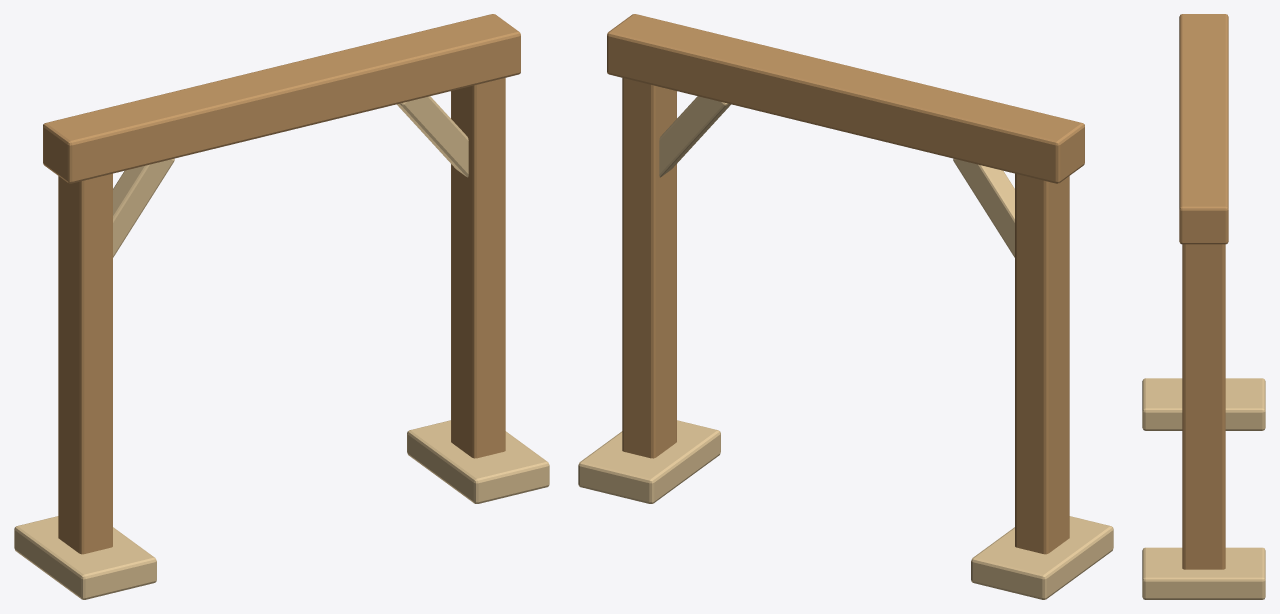
The model's file is S012_timber_portal.glb.
3 renders of one model, left to right at view 1: azimuth 30°, elevation 25°; view 2: azimuth 150°, elevation 25°; view 3: azimuth 270°, elevation 25°, orthographic. The views are drawn at different scales.
Parts seen in each view (by area): view 1: overhead_beam, timber_upright, timber_upright.001, timber_foot, timber_foot.001, angled_brace, angled_brace.001; view 2: overhead_beam, timber_upright, timber_upright.001, timber_foot, timber_foot.001, angled_brace, angled_brace.001; view 3: timber_upright.001, overhead_beam, timber_foot.001, timber_foot.
Part boxes in pixels (x1,y1,x2,y2): overhead_beam: (43,14,520,183); timber_upright: (58,173,112,554); timber_upright.001: (451,78,505,458); timber_foot: (14,516,156,599); timber_foot.001: (407,420,549,503); angled_brace: (113,159,174,257); angled_brace.001: (397,96,468,177); overhead_beam: (607,14,1084,183); timber_upright: (1015,173,1069,554); timber_upright.001: (622,78,676,458); timber_foot: (971,516,1113,599); timber_foot.001: (578,420,720,503); angled_brace: (953,159,1014,257); angled_brace.001: (659,96,730,177); timber_upright.001: (1182,244,1225,569); overhead_beam: (1179,14,1228,244); timber_foot.001: (1142,547,1265,599); timber_foot: (1142,378,1265,430).
Size of the model in its own units: 3.1 by 2.8 by 0.8.
